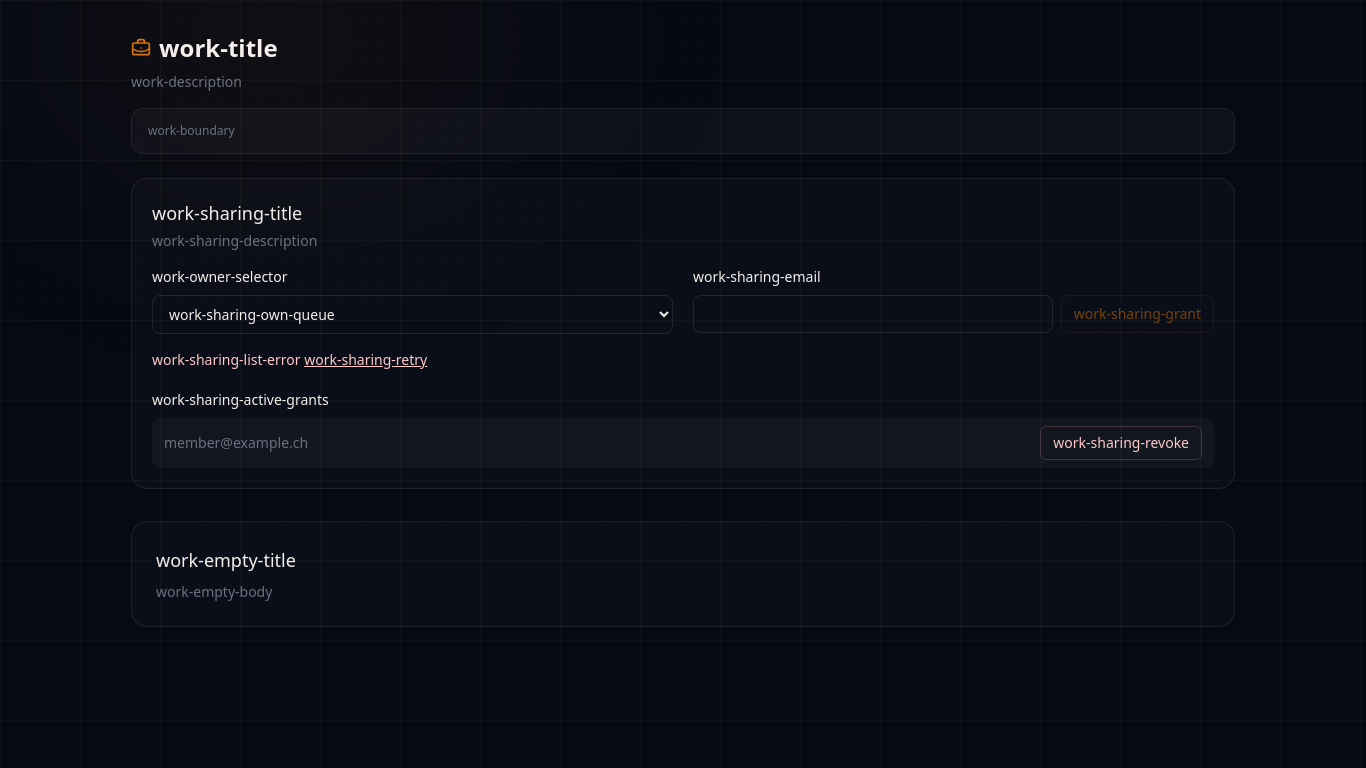
Test: owner compliance work queue page › does not let an older access-list response restore a confirmed revoke
The width and height of the screenshot is (1366, 768).
Expected: the text "member@example.ch" is shown, [164, 433, 308, 453]
Click the button "work-sharing-retry": [366, 360] box [304, 350, 427, 370]
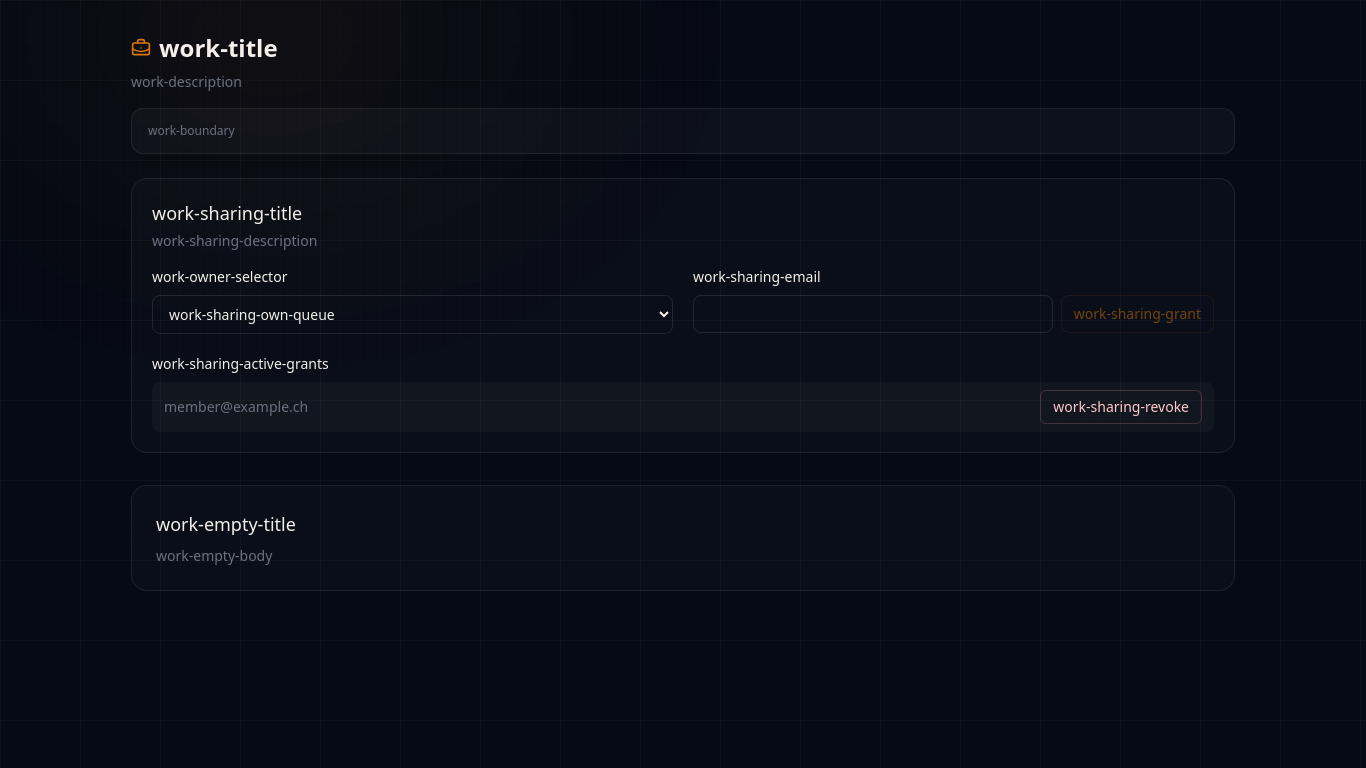
Click the button with aria-label "work-sharing-revoke member@example.ch": [1121, 407] box [1040, 390, 1202, 424]
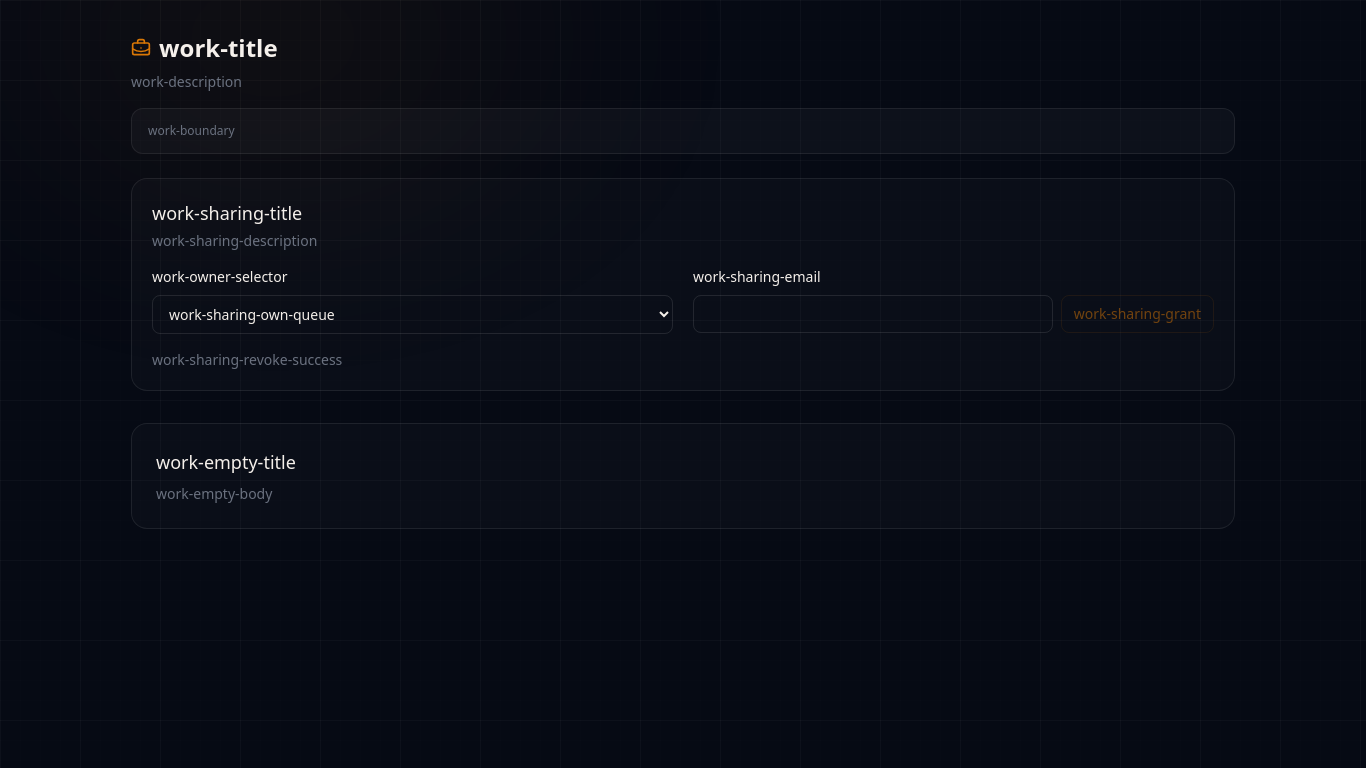
Expected: the text "member@example.ch" is gone
Expected: the message reads "work-sharing-revoke-success", [152, 350, 342, 369]
